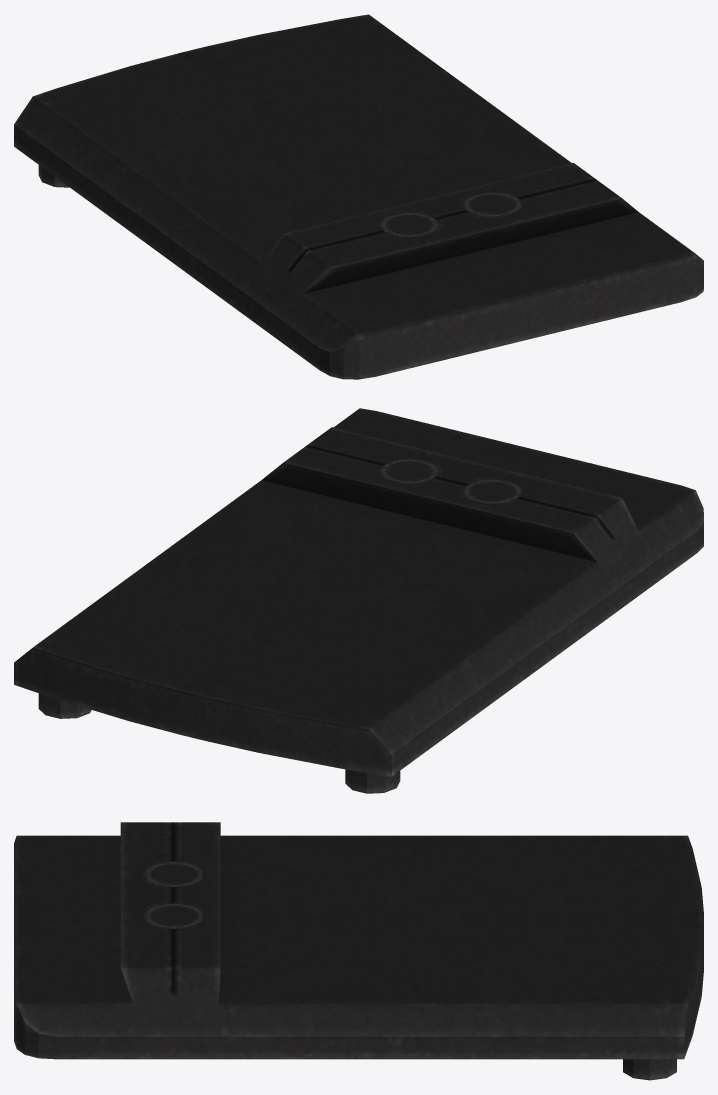
3 renders of one model, top to bottom at view 1: azimuth 30°, elevation 25°; view 2: azimuth 150°, elevation 25°; view 3: azimuth 270°, elevation 25°, orthographic. The views are drawn at different scales.
Visible parts, largest first — view 1: TW_5a32aa0cc4a28232996e405f_PZ_Import; view 2: TW_5a32aa0cc4a28232996e405f_PZ_Import; view 3: TW_5a32aa0cc4a28232996e405f_PZ_Import.
Part boxes in pixels (x1=…): TW_5a32aa0cc4a28232996e405f_PZ_Import: x1=14, y1=14, x2=703, y2=379; TW_5a32aa0cc4a28232996e405f_PZ_Import: x1=14, y1=408, x2=703, y2=793; TW_5a32aa0cc4a28232996e405f_PZ_Import: x1=14, y1=822, x2=703, y2=1080.
Size of the model in its own units: 0.0172 by 0.0266 by 0.00409.
Materials: 1 (1 with a texture image).
